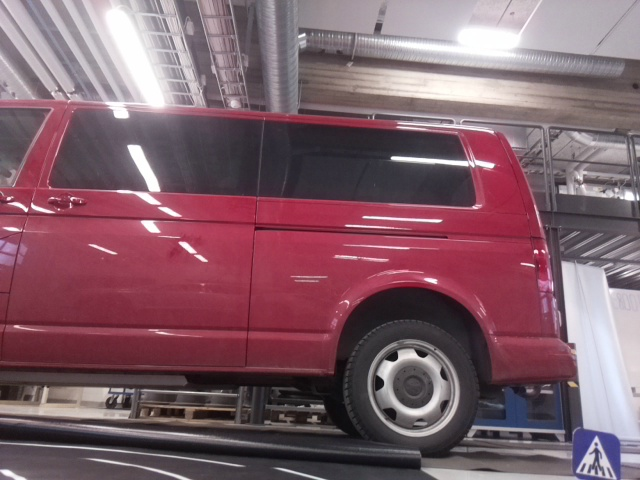Crosswalk: (573, 426, 622, 479)
